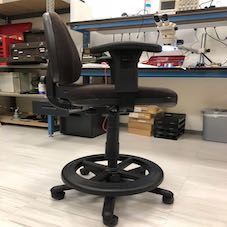chair: (27, 8, 187, 225), (33, 15, 40, 30)
